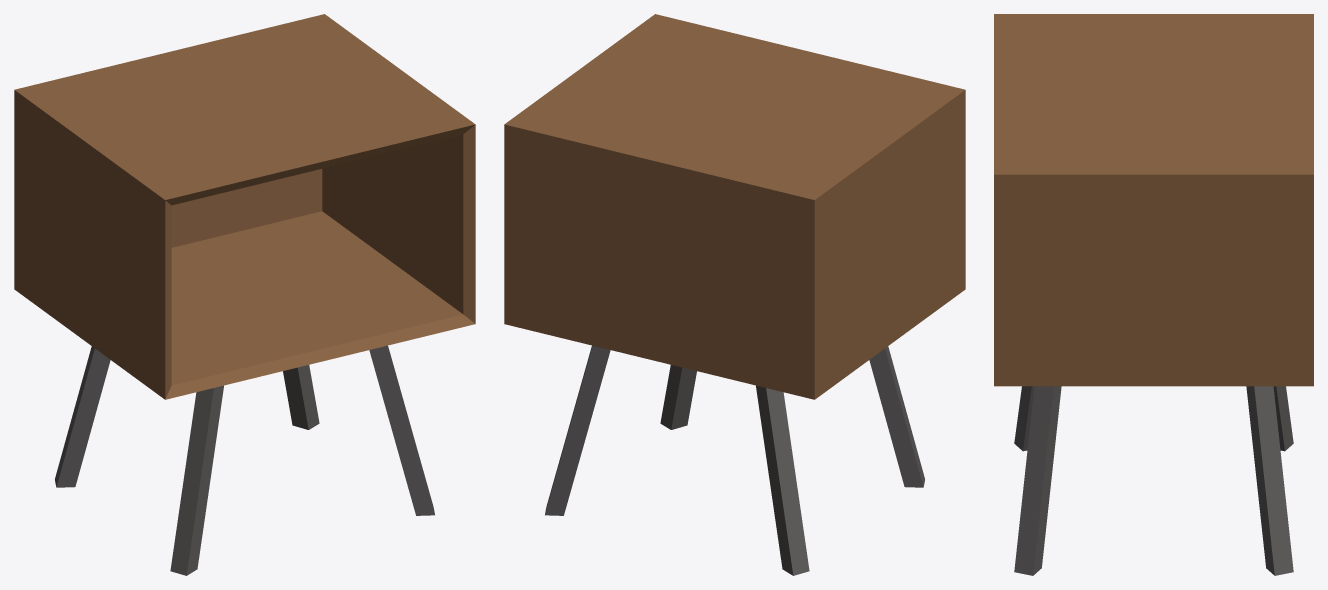
Rendered from Cupboard_18_01.fbx.
3 renders of one model, left to right at view 1: azimuth 30°, elevation 25°; view 2: azimuth 150°, elevation 25°; view 3: azimuth 270°, elevation 25°, orthographic. The views are drawn at different scales.
Parts seen in each view (by area): view 1: Cupboard_18_01; view 2: Cupboard_18_01; view 3: Cupboard_18_01.
Part boxes in pixels (x1=…): Cupboard_18_01: x1=14, y1=14, x2=475, y2=575; Cupboard_18_01: x1=504, y1=14, x2=965, y2=575; Cupboard_18_01: x1=994, y1=14, x2=1313, y2=575.
Size of the model in its own units: 50.87 by 61.12 by 42.83.
